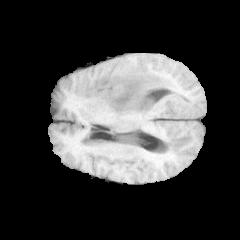glioma: (93, 57, 176, 116)
